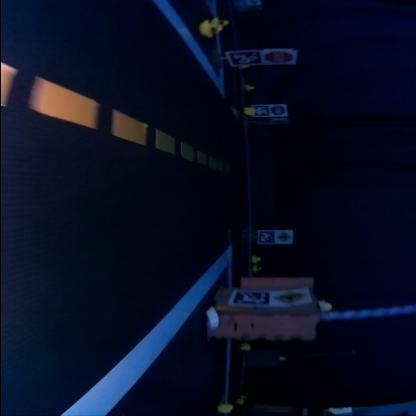Duckie: (199, 20, 220, 36), (212, 17, 226, 27), (218, 404, 233, 412), (246, 106, 256, 115), (240, 342, 250, 350), (252, 256, 260, 262), (254, 266, 262, 272), (245, 84, 253, 90), (236, 398, 244, 404), (278, 356, 286, 362)
Intersection sign: (274, 290, 305, 304), (277, 231, 292, 243)
QR code: (229, 50, 262, 65), (232, 292, 270, 303), (258, 231, 274, 243), (254, 106, 270, 116)
Stop sign: (265, 50, 295, 63), (271, 104, 285, 115)
